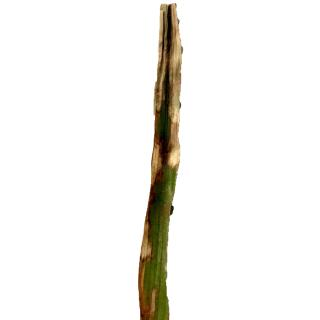Hawar-Daun: (158, 7, 180, 135), (138, 224, 164, 314), (151, 142, 182, 178)
